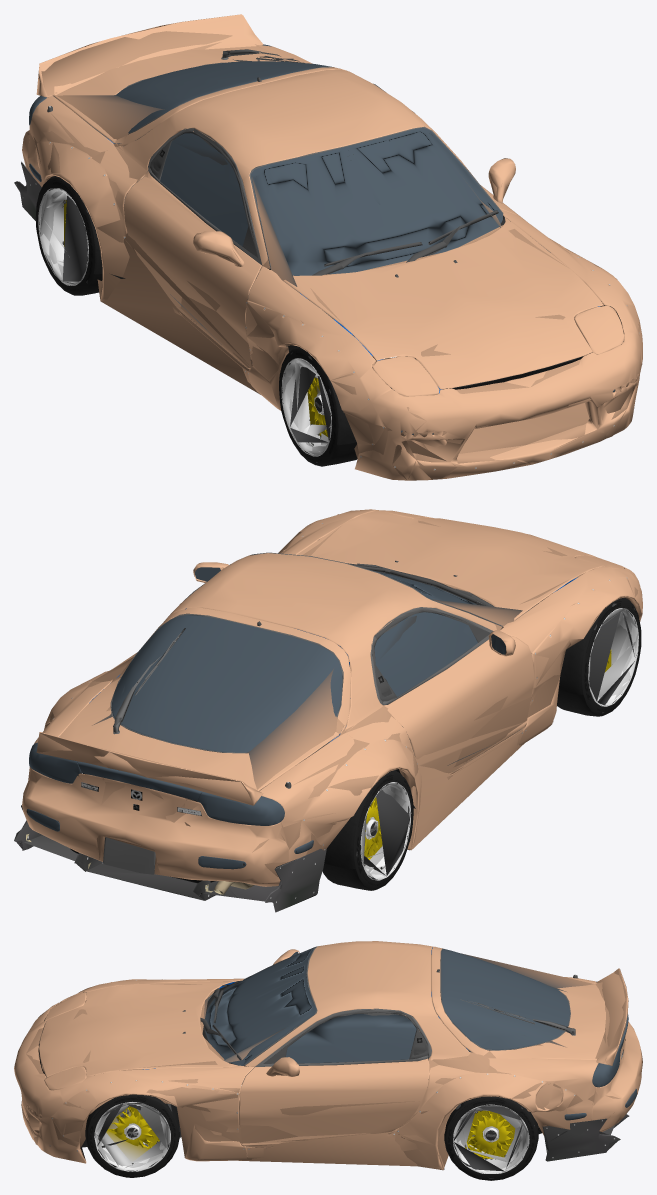
Rendered from mazda_rx7.glb.
3 views of the same model, one above another, from view 1: azimuth 30°, elevation 25°; view 2: azimuth 150°, elevation 25°; view 3: azimuth 270°, elevation 25° (orthographic). The views are drawn at different scales.
Parts seen in each view (by area): view 1: hi, hi_glass, mid, lo; view 2: hi, hi_glass, lo, mid; view 3: hi, hi_glass, lo, mid.
Part boxes in pixels (x1,y1,x2,y2): hi: (14,14,642,480); hi_glass: (29,44,615,434); mid: (22,26,642,479); lo: (33,59,641,460); hi: (14,509,642,912); hi_glass: (27,567,505,869); lo: (82,514,635,876); mid: (16,520,642,900); hi: (14,941,642,1180); hi_glass: (205,947,636,1120); lo: (31,953,594,1171); mid: (20,949,627,1178).
Size of the model in its own units: 1.95 by 1.17 by 4.29.
2 materials, 1 textured.
